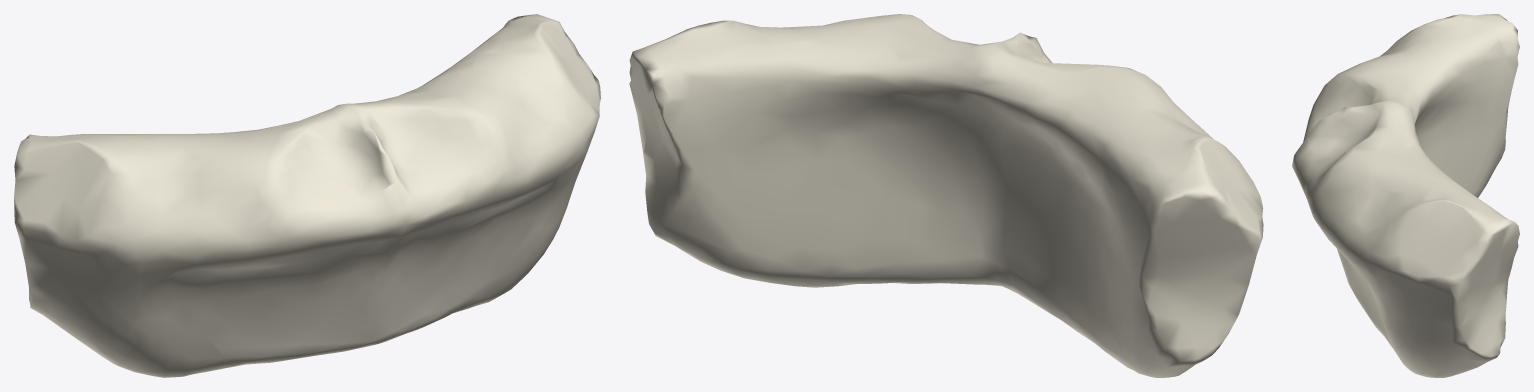
The model's file is fma59495_mm1125.glb.
3 views of the same model, side by side, from view 1: azimuth 30°, elevation 25°; view 2: azimuth 150°, elevation 25°; view 3: azimuth 270°, elevation 25° (orthographic). The views are drawn at different scales.
Parts seen in each view (by area): view 1: FMA59495_MM1125; view 2: FMA59495_MM1125; view 3: FMA59495_MM1125.
Part boxes in pixels (box(x1,y1,x2,y2)): FMA59495_MM1125: box(14, 14, 600, 377); FMA59495_MM1125: box(629, 14, 1263, 377); FMA59495_MM1125: box(1292, 14, 1519, 377).
Size of the model in its own units: 0.0249 by 0.00998 by 0.0101.
